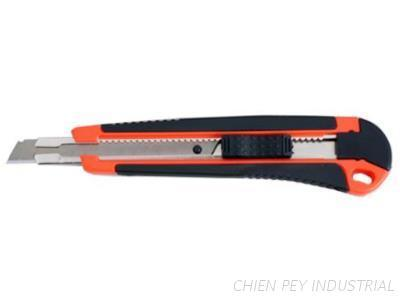cutter: (7, 114, 391, 197)
